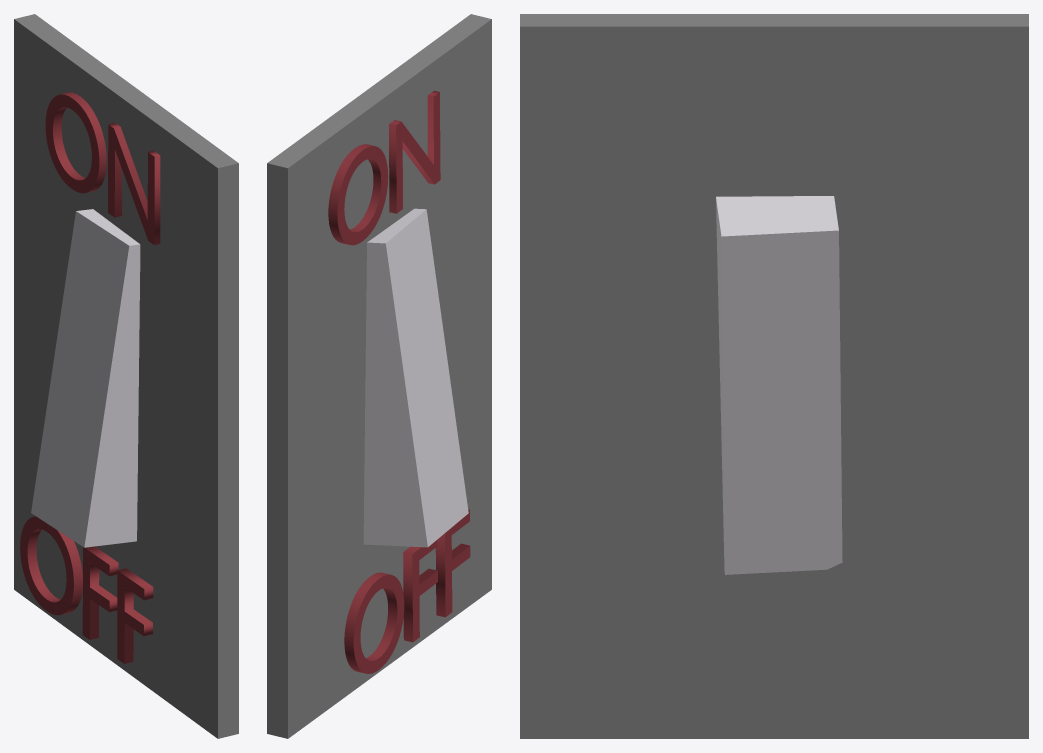
Rendered from switch.fbx.
The picture shows the model from 3 angles, left to right: view 1: azimuth 30°, elevation 25°; view 2: azimuth 150°, elevation 25°; view 3: azimuth 270°, elevation 25°; orthographic projection. The views are drawn at different scales.
Parts seen in each view (by area): view 1: Cube, Cube.001, Text.001, Text; view 2: Cube, Cube.001, Text.001, Text; view 3: Cube, Cube.001.
Part boxes in pixels (box(x1,y1,x2,y2)): Cube: box(14, 14, 238, 738); Cube.001: box(31, 209, 140, 547); Text.001: box(20, 516, 153, 663); Text: box(45, 92, 160, 245); Cube: box(267, 14, 491, 738); Cube.001: box(363, 208, 468, 547); Text.001: box(344, 509, 470, 673); Text: box(328, 90, 440, 245); Cube: box(520, 14, 1028, 738); Cube.001: box(716, 196, 842, 574).
Size of the model in its own units: 34.25 by 142 by 92.08.
